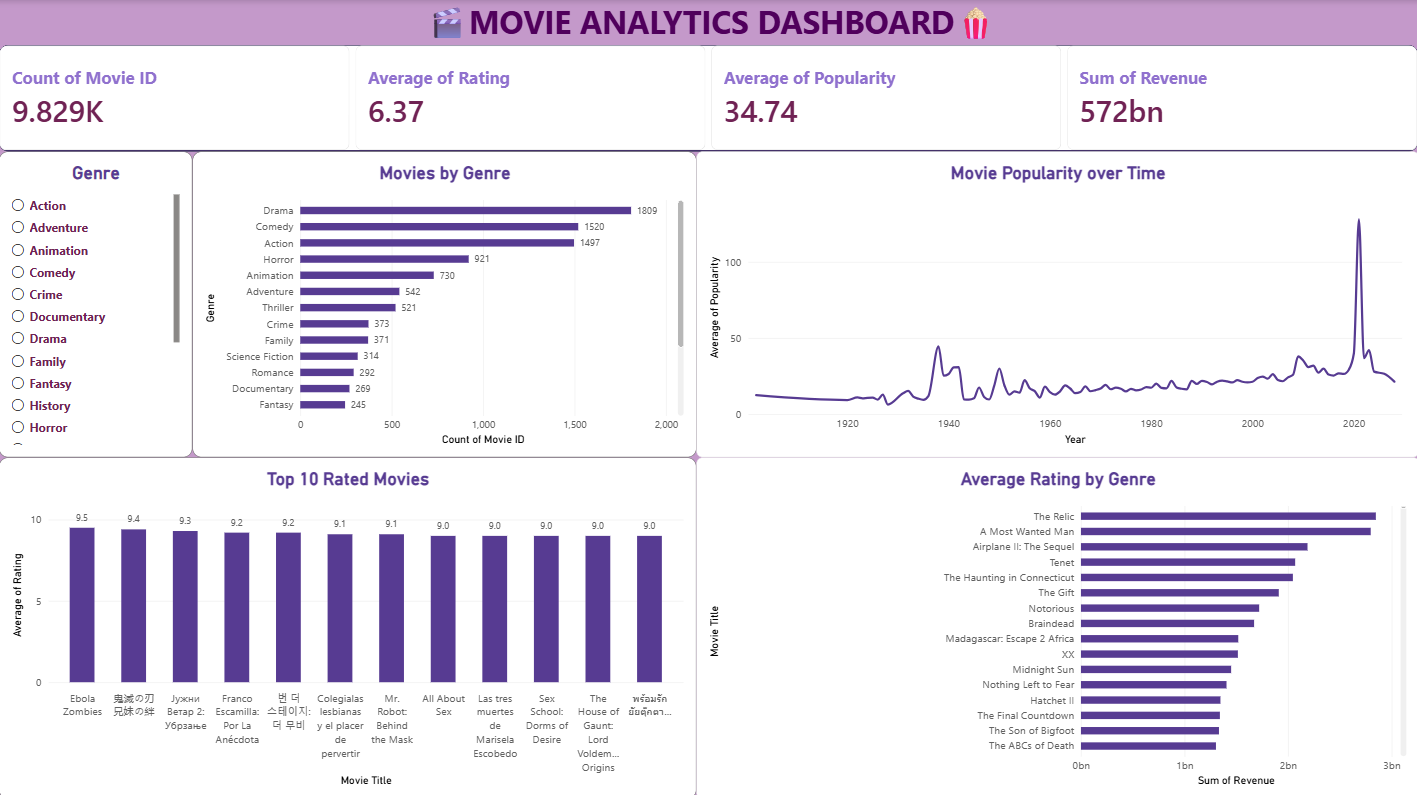

The page's visual inventory and layout, read from the dashboard file:
{"tool":"powerbi","page":{"name":"Movie Analytics Dashboard","canvas":[1920,1080],"ordinal":0},"visuals":[{"type":"textbox","box":[9.1,0,1910.2,61.3],"z":0},{"type":"cardVisual","fields":{"Data":["CountNonNull(Datasets_For_Assignment - Movie_Details.Movie ID)","Avg(Datasets_For_Assignment - Movie_Details.Rating)","Avg(Datasets_For_Assignment - Movie_Details.Popularity)","Sum(Datasets_For_Assignment - Movie_Details.Revenue)"]},"box":[0,60.8,1918.1,144],"z":1000},{"type":"clusteredBarChart","title":"Movies by Genre","fields":{"Category":["Datasets_For_Assignment - Movie_Details.Genre"],"Y":["CountNonNull(Datasets_For_Assignment - Movie_Details.Movie ID)"]},"box":[261.2,204.4,681.4,413.4],"z":2000},{"type":"listSlicer","fields":{"Values":["Datasets_For_Assignment - Movie_Details.Genre"]},"box":[0,204.4,261.2,413.4],"z":3000},{"type":"lineChart","title":"Movie Popularity over Time","fields":{"Category":["Datasets_For_Assignment - Movie_Details.Release Date.Variation.Date Hierarchy.Year"],"Y":["Avg(Datasets_For_Assignment - Movie_Details.Popularity)"]},"box":[942.6,204.4,976.7,413.4],"z":4000},{"type":"clusteredColumnChart","title":"Top 10 Rated Movies","fields":{"Category":["Datasets_For_Assignment - Movie_Details.Movie Title"],"Y":["Avg(Datasets_For_Assignment - Movie_Details.Rating)"]},"box":[0,617.8,942.6,461.1],"z":4001},{"type":"clusteredBarChart","title":"Average Rating by Genre","fields":{"Category":["Datasets_For_Assignment - Movie_Details.Movie Title"],"Y":["Sum(Datasets_For_Assignment - Movie_Details.Revenue)"]},"box":[943,618,977,461],"z":4002}]}

Visuals, with their boxes in screenshot pixels (x1, y1, x2, y2), scaled from the page's 1920x1080 canvas onto the 1417x795 screenshot:
textbox: l=7, t=0, r=1416, b=45
cardVisual - CountNonNull(Datasets_For_Assignment - Movie_Details.Movie ID) x Avg(Datasets_For_Assignment - Movie_Details.Rating): l=0, t=45, r=1416, b=151
"Movies by Genre" clusteredBarChart: l=193, t=150, r=696, b=455
listSlicer - Datasets_For_Assignment - Movie_Details.Genre: l=0, t=150, r=193, b=455
"Movie Popularity over Time" lineChart: l=696, t=150, r=1416, b=455
"Top 10 Rated Movies" clusteredColumnChart: l=0, t=455, r=696, b=794
"Average Rating by Genre" clusteredBarChart: l=696, t=455, r=1416, b=794
